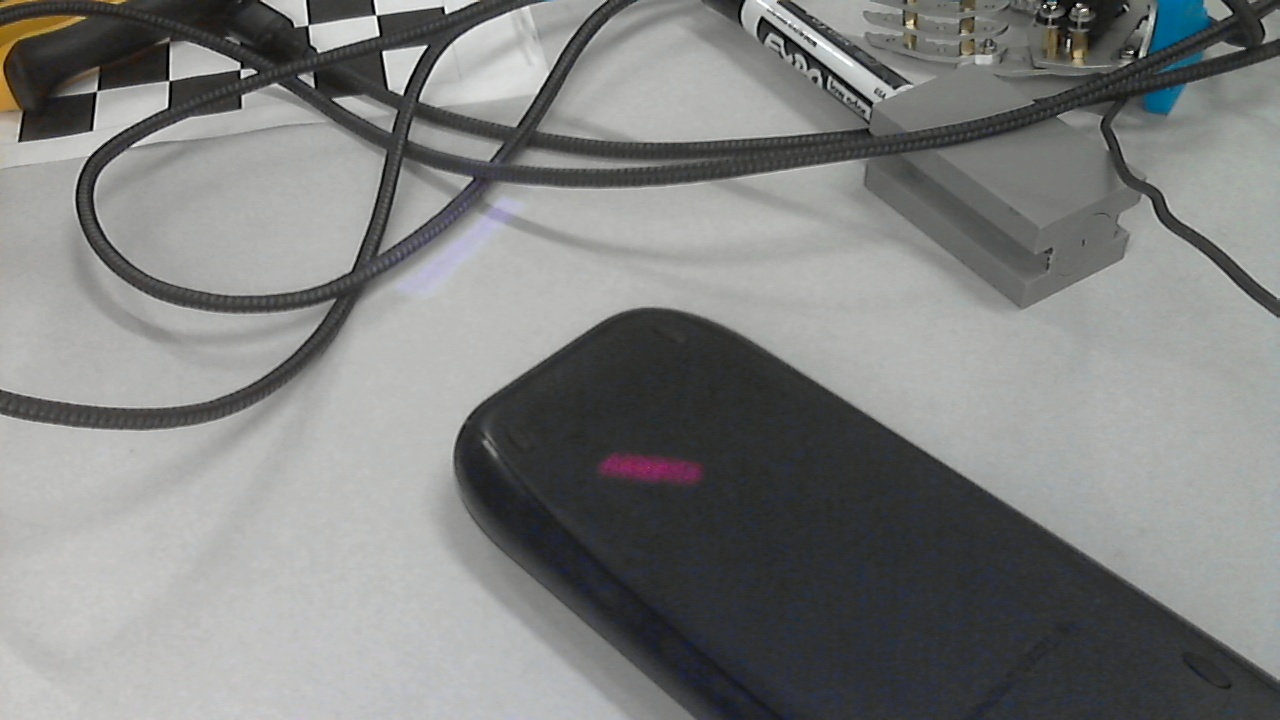Object graphing calculator slide case - Material plastic - Pdfname as1D2765rACT: (587, 434, 705, 505)
